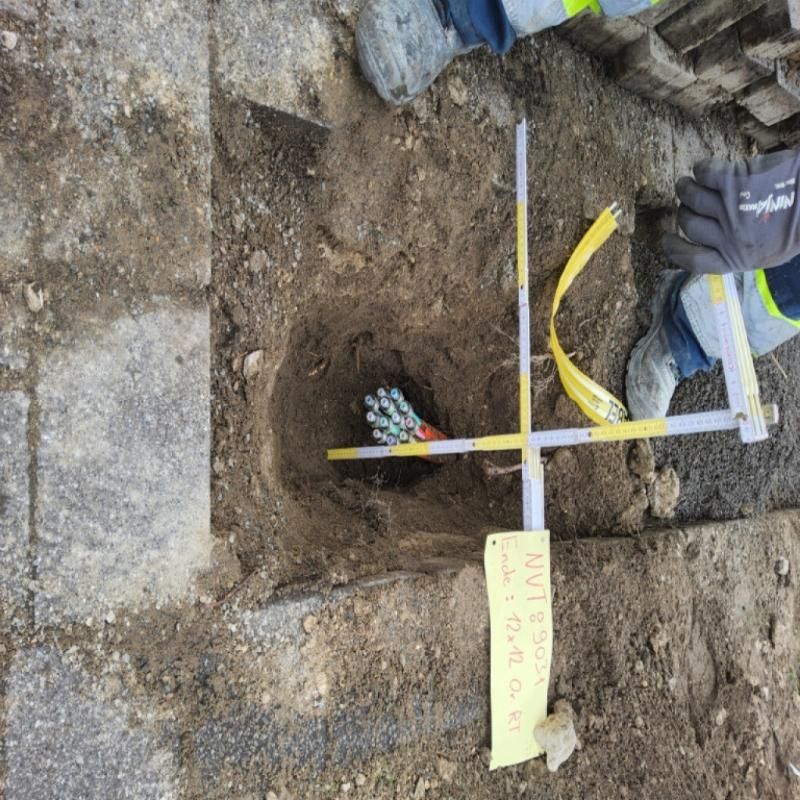Orang-Speednetrohrchen: (366, 389, 446, 443)
